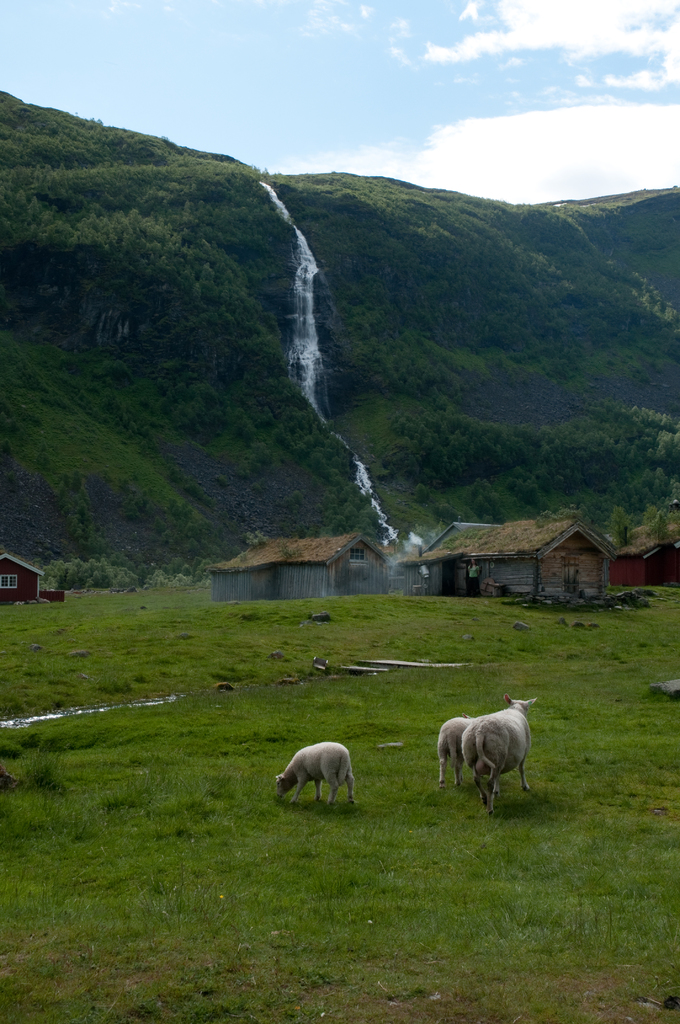sheep: (463, 696, 532, 816), (278, 739, 372, 821)
